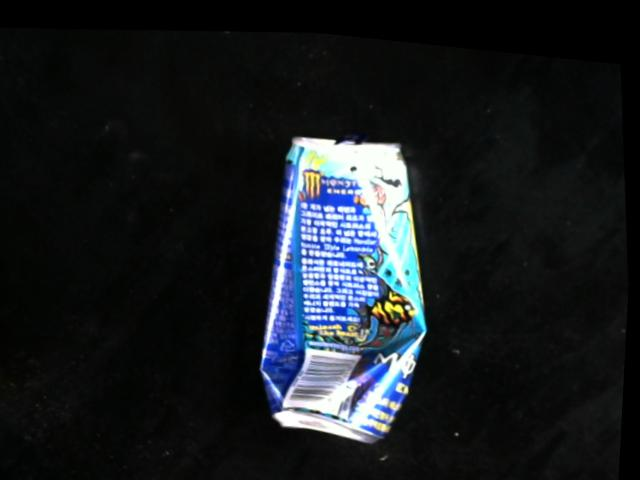can: (261, 125, 435, 435)
